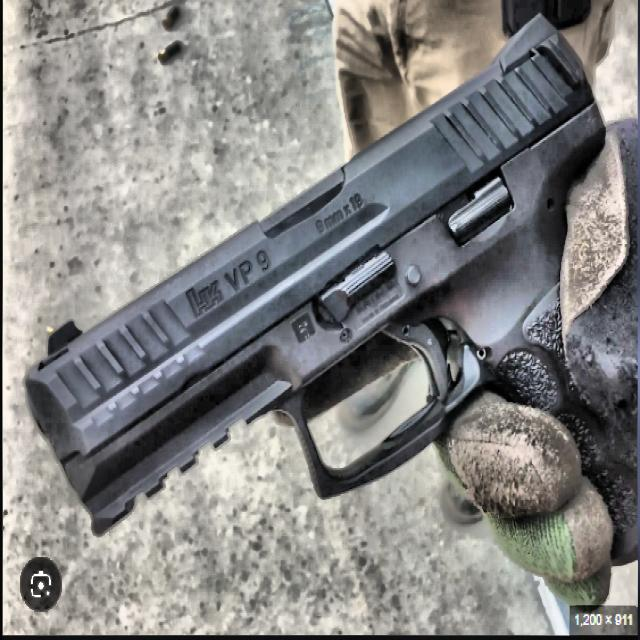HKVP9: (35, 19, 609, 499)
